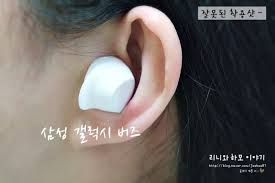earphone: (71, 5, 183, 145)
